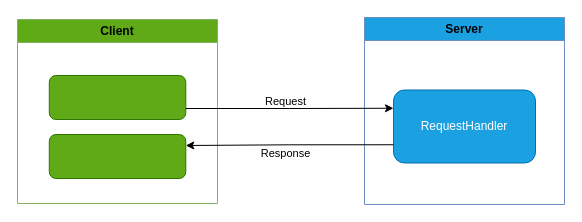
This 582x222 diagram has some shape labels left out. The centre of each missing label's shape, as x and y in pixels:
ReceiverThread: the point at 117,156
SenderThread: the point at 117,97
